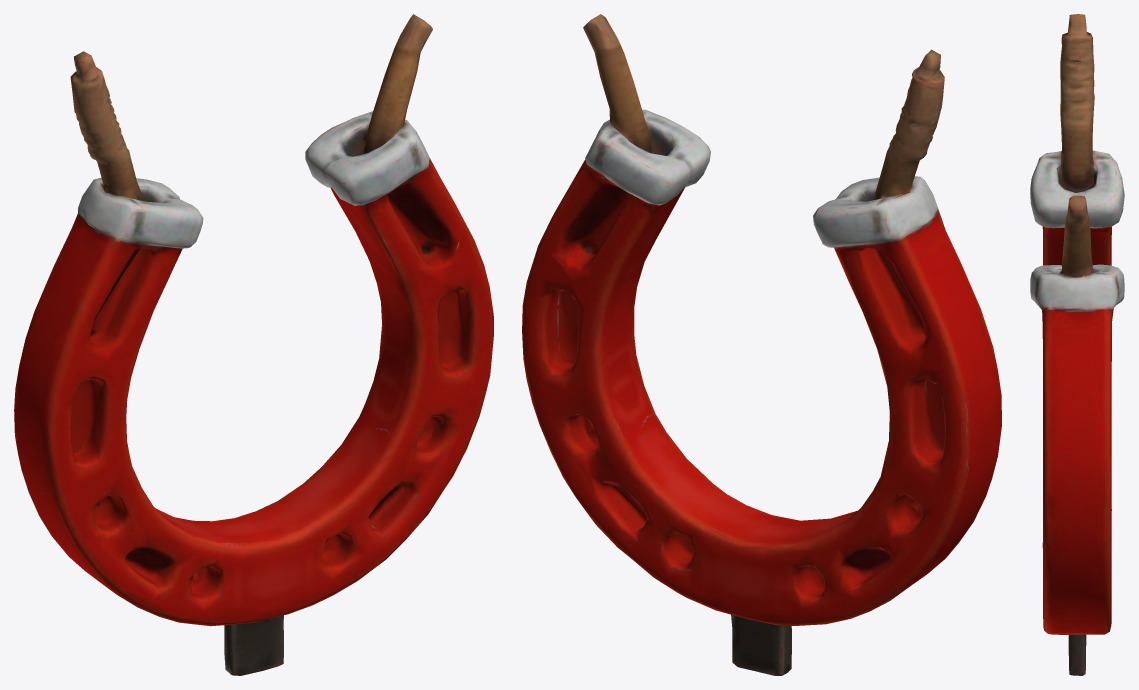
The model's file is kn_magnet_clamp.glb.
The picture shows the model from 3 angles, left to right: view 1: azimuth 30°, elevation 25°; view 2: azimuth 150°, elevation 25°; view 3: azimuth 270°, elevation 25°; orthographic projection. The views are drawn at different scales.
Visible parts, largest first — view 1: geometry_0; view 2: geometry_0; view 3: geometry_0.
Boxes of the visible parts, <box> form: geometry_0: <box>14,14,493,675</box>; geometry_0: <box>522,14,1001,675</box>; geometry_0: <box>1030,14,1124,675</box>.
Size of the model in its own units: 0.7165 by 1 by 0.1484.
1 material, 1 textured.
